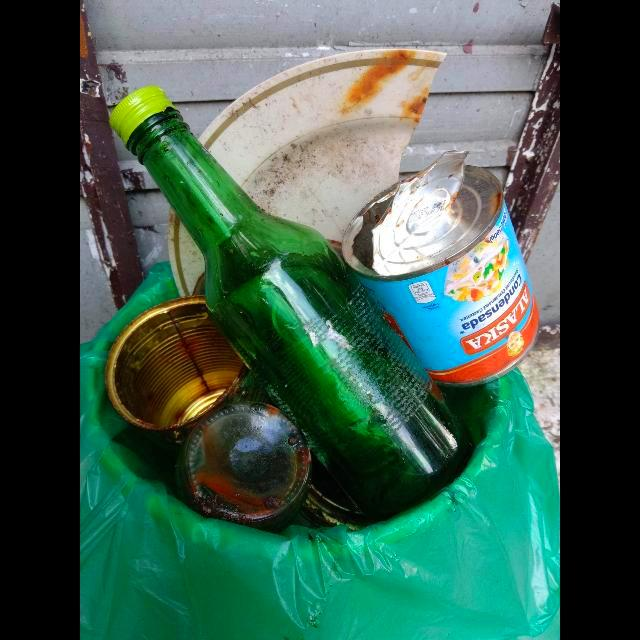aluminum: (340, 149, 541, 388), (104, 295, 248, 431)
glass_bottle: (109, 85, 474, 526)
